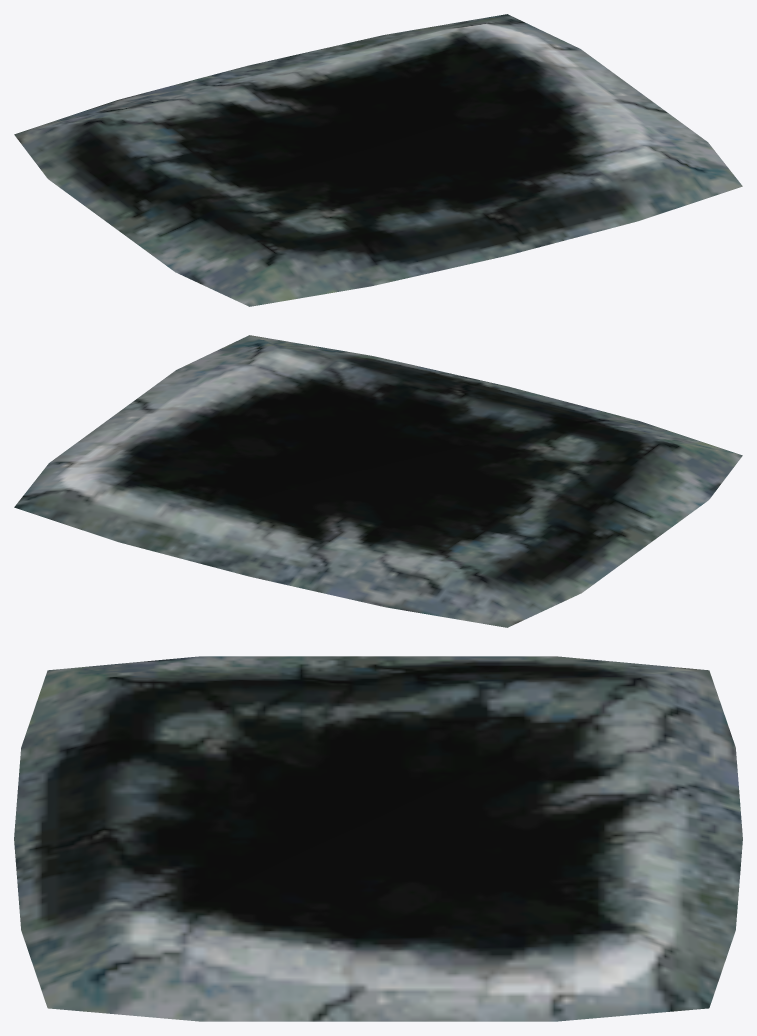
Rendered from INST_SM_WHIRLPOOL_CRACK.fbx.
3 views of the same model, one above another, from view 1: azimuth 30°, elevation 25°; view 2: azimuth 150°, elevation 25°; view 3: azimuth 270°, elevation 25° (orthographic). The views are drawn at different scales.
Visible parts, largest first — view 1: INST_SM_WHIRLPOOL_CRACK; view 2: INST_SM_WHIRLPOOL_CRACK; view 3: INST_SM_WHIRLPOOL_CRACK.
Boxes of the visible parts, left/top/right/bottom form: INST_SM_WHIRLPOOL_CRACK: left=14, top=14, right=742, bottom=306; INST_SM_WHIRLPOOL_CRACK: left=14, top=335, right=742, bottom=627; INST_SM_WHIRLPOOL_CRACK: left=14, top=656, right=742, bottom=1021.
Size of the model in its own units: 33864 by 1146 by 28569.
Materials: 1 (1 with a texture image).
